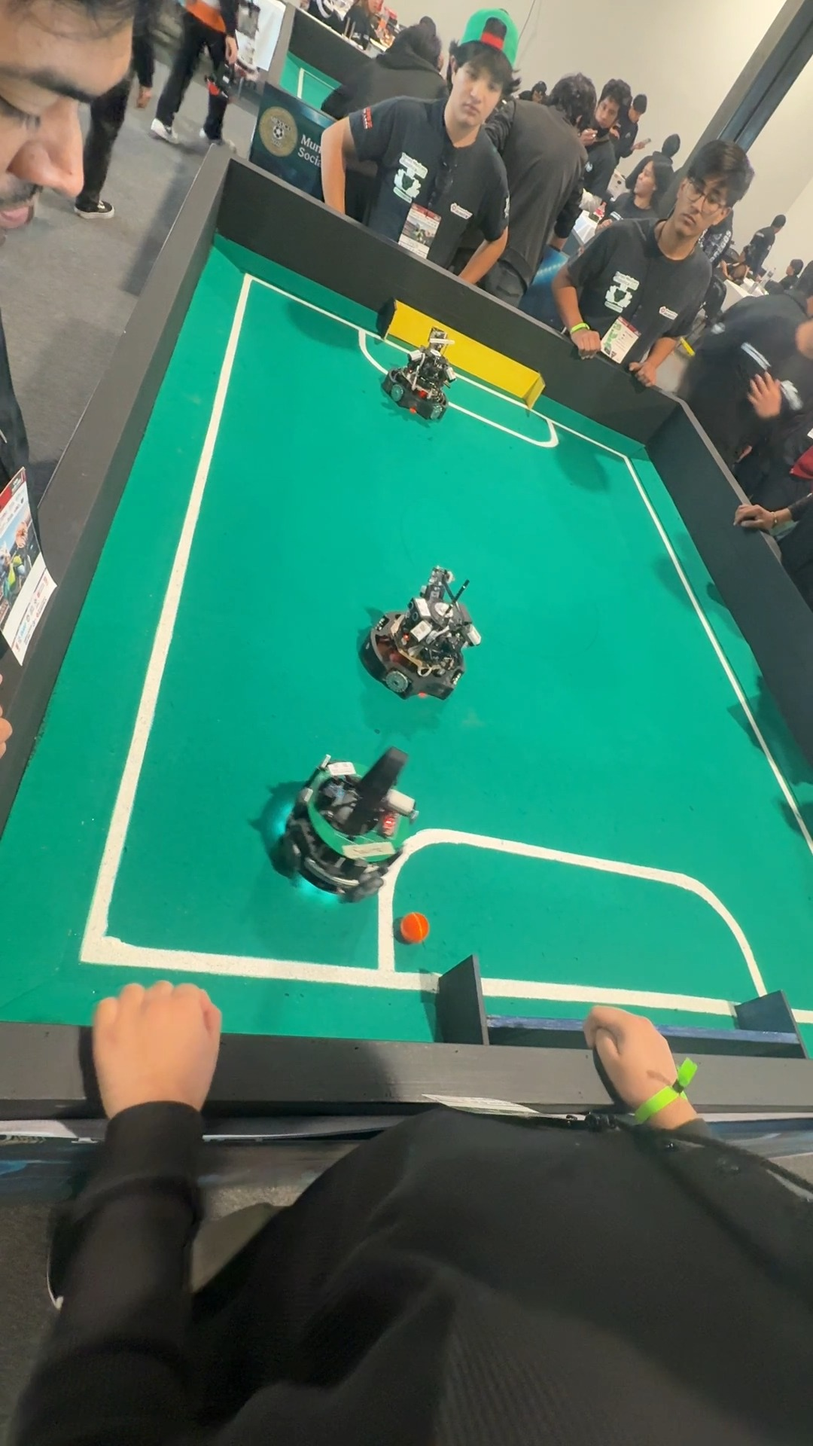Robot: (267, 726, 419, 910), (361, 563, 489, 711), (392, 324, 455, 428)
pelota: (400, 908, 430, 951)
